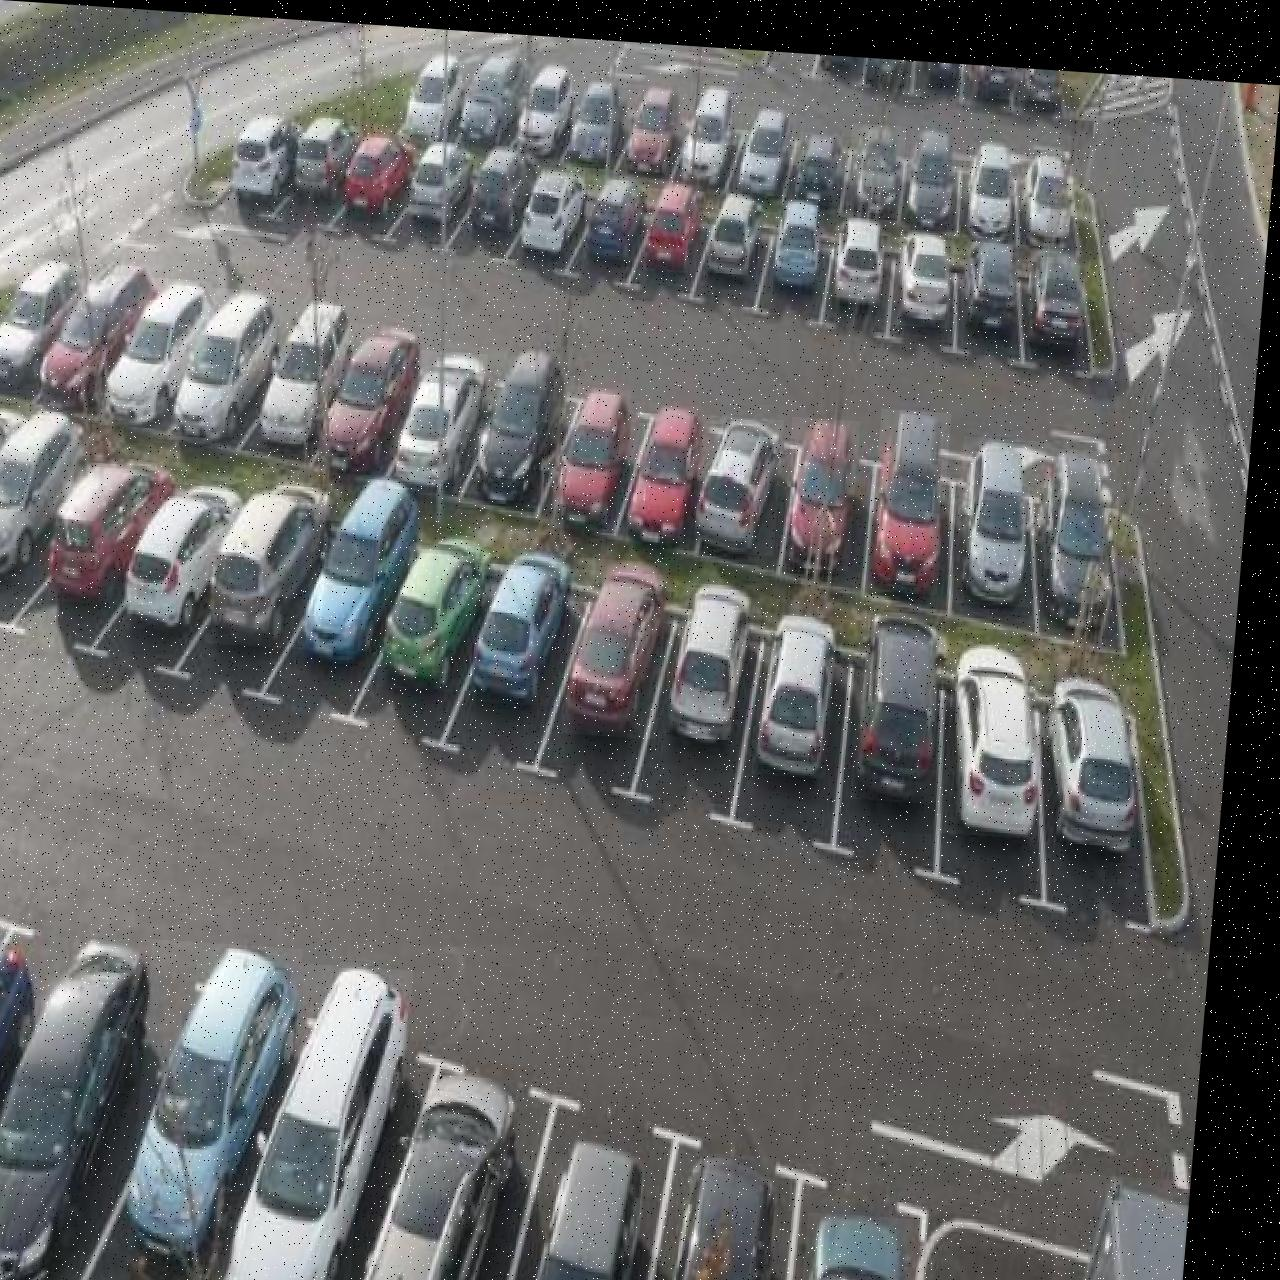car: (232, 954, 430, 1280), (138, 935, 319, 1262), (0, 931, 169, 1280), (370, 1042, 541, 1280), (309, 466, 431, 662), (216, 473, 341, 645), (953, 627, 1061, 824), (1048, 658, 1162, 839), (536, 1126, 668, 1280), (0, 922, 57, 1266), (572, 548, 679, 729), (54, 455, 183, 605), (42, 256, 164, 413), (388, 525, 504, 686), (131, 475, 250, 631), (863, 598, 959, 790), (175, 283, 285, 444), (1068, 1156, 1208, 1280), (678, 1140, 800, 1280), (107, 273, 217, 428), (0, 402, 94, 582), (960, 422, 1058, 593), (477, 539, 581, 698), (1039, 432, 1130, 612), (325, 317, 427, 471), (876, 396, 958, 581), (263, 291, 358, 446), (480, 339, 572, 499), (674, 570, 762, 736), (395, 342, 493, 487), (764, 600, 848, 766), (700, 404, 791, 545), (789, 405, 867, 559), (0, 255, 88, 389), (630, 393, 711, 536), (559, 377, 638, 523), (820, 1199, 946, 1280), (457, 42, 529, 142), (340, 124, 417, 214), (398, 43, 465, 142), (469, 133, 537, 229), (230, 109, 302, 198), (677, 72, 738, 177), (1029, 233, 1095, 330), (1019, 130, 1081, 233), (520, 158, 588, 249), (291, 108, 360, 197), (897, 216, 959, 315), (514, 51, 576, 150), (406, 132, 477, 217), (963, 225, 1025, 320), (903, 114, 960, 217), (564, 68, 628, 159), (848, 111, 908, 206), (965, 125, 1021, 226), (705, 180, 767, 269), (586, 165, 649, 252), (830, 202, 890, 293), (646, 171, 705, 263), (735, 95, 792, 188), (0, 404, 32, 567), (624, 75, 681, 166), (773, 185, 825, 278), (796, 120, 845, 195), (1019, 54, 1062, 96), (972, 51, 1018, 85), (922, 49, 960, 79)
